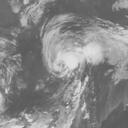cyclone: (40, 13, 127, 81)
